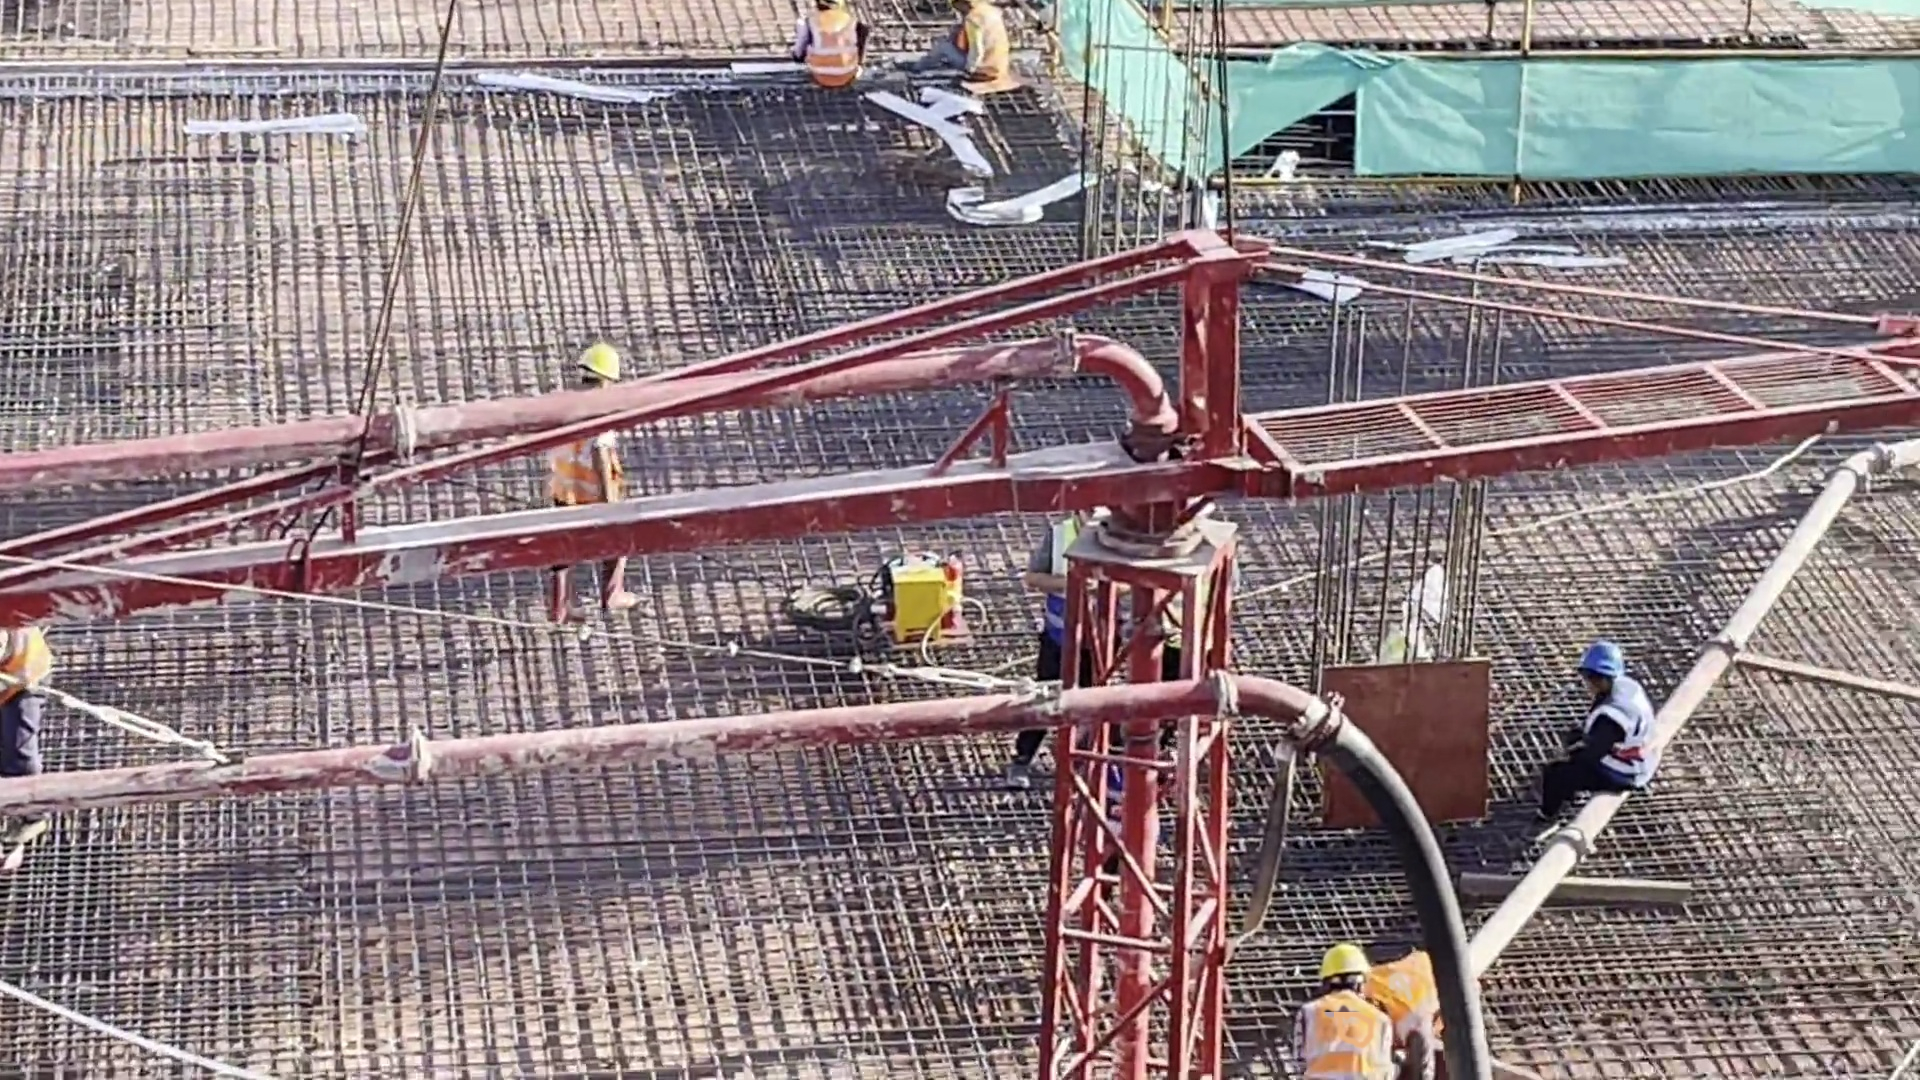helmet: (1321, 947, 1374, 979), (578, 350, 622, 381), (1582, 641, 1623, 673)
person: (549, 338, 666, 648), (1021, 506, 1128, 795), (1547, 644, 1663, 834), (1, 632, 89, 879), (1280, 935, 1390, 1080), (1348, 932, 1444, 1080), (909, 1, 1005, 84), (795, 1, 886, 87)
vest: (1595, 691, 1663, 788), (548, 424, 624, 511), (1304, 997, 1381, 1080), (1044, 525, 1081, 648), (1376, 956, 1436, 1028), (804, 16, 859, 89), (953, 11, 1008, 83), (1, 628, 55, 688)
